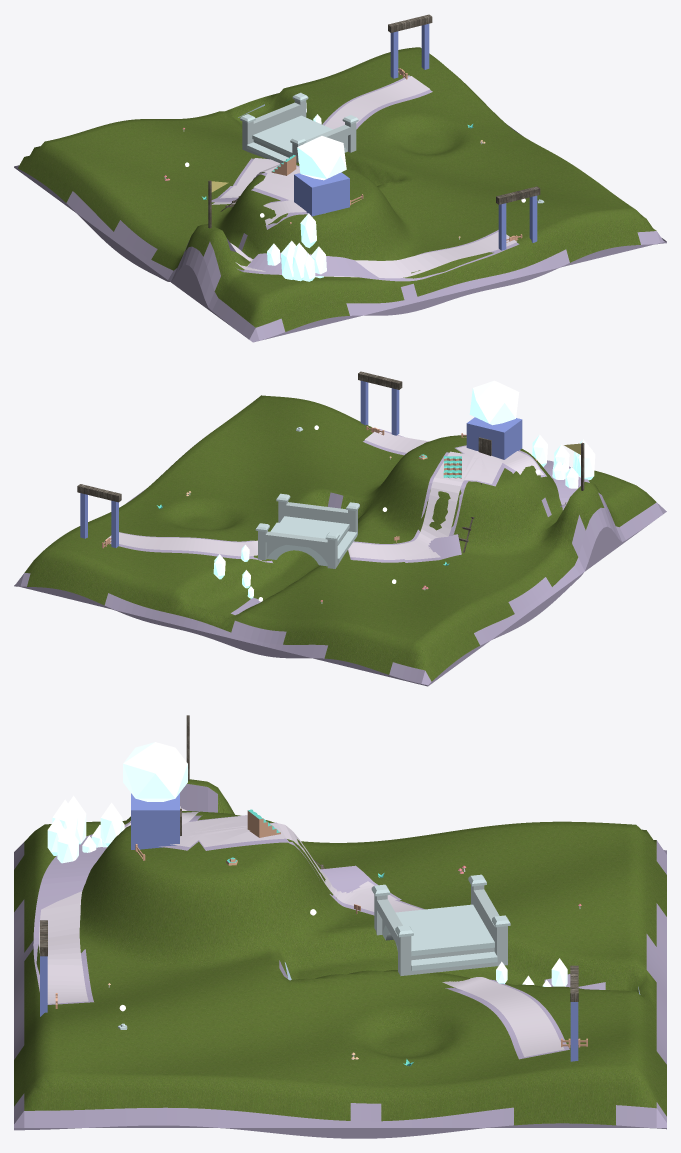
File: world9_star.glb
3 renders of one model, top to bottom at view 1: azimuth 30°, elevation 25°; view 2: azimuth 150°, elevation 25°; view 3: azimuth 270°, elevation 25°, orthographic. The views are drawn at different scales.
Visible parts, largest first — view 1: W9_Terrain, bridge_stoneRound, W9_Road_7, W9_HutBase, W9_RoadCase_7, W9_CrystalRoof, W9_Road_0, W9_Road_1, W9_RoadCase_0, W9_Road_3; view 2: W9_Terrain, bridge_stoneRound, W9_Road_1, W9_Road_0, W9_CrystalRoof, W9_HutBase, W9_RoadCase_1, W9_Road_7, W9_RoadCase_2, W9_Road_3, W9_RoadCase_7, W9_RoadCase_0 (+1 smaller); view 3: W9_Terrain, bridge_stoneRound, W9_Road_7, W9_Road_0, W9_CrystalRoof, W9_RoadCase_7, W9_HutBase, W9_Road_1, W9_RoadCase_0, W9_RoadCase_2, W9_Road_3, W9_CaveCry_C8 (+2 smaller).
Part boxes in pixels (<box>): W9_Terrain: <box>14,47,666,342</box>; bridge_stoneRound: <box>240,92,358,163</box>; W9_Road_7: <box>230,232,516,278</box>; W9_HutBase: <box>294,172,349,216</box>; W9_RoadCase_7: <box>237,230,519,281</box>; W9_CrystalRoof: <box>297,136,346,180</box>; W9_Road_0: <box>325,76,430,129</box>; W9_Road_1: <box>236,158,300,194</box>; W9_RoadCase_0: <box>322,75,432,129</box>; W9_Road_3: <box>253,173,293,200</box>; W9_Terrain: <box>14,395,666,686</box>; bridge_stoneRound: <box>255,493,359,568</box>; W9_Road_1: <box>348,451,478,559</box>; W9_Road_0: <box>106,532,257,556</box>; W9_CrystalRoof: <box>469,380,519,425</box>; W9_HutBase: <box>466,417,522,459</box>; W9_RoadCase_1: <box>348,452,468,562</box>; W9_Road_7: <box>365,430,567,504</box>; W9_RoadCase_2: <box>404,534,461,562</box>; W9_Road_3: <box>463,451,502,483</box>; W9_RoadCase_7: <box>363,429,589,509</box>; W9_RoadCase_0: <box>104,532,272,562</box>; W9_Terrain: <box>14,779,666,1138</box>; bridge_stoneRound: <box>371,874,510,975</box>; W9_Road_7: <box>39,808,186,1003</box>; W9_Road_0: <box>442,977,564,1056</box>; W9_CrystalRoof: <box>123,742,187,801</box>; W9_RoadCase_7: <box>33,821,130,1004</box>; W9_HutBase: <box>131,793,179,849</box>; W9_Road_1: <box>195,823,421,912</box>; W9_RoadCase_0: <box>445,979,569,1059</box>; W9_RoadCase_2: <box>321,865,401,900</box>; W9_Road_3: <box>180,815,247,837</box>; W9_CaveCry_C8: <box>100,802,122,846</box>.
Bounding box in the file's own units: 24 × 8.25 × 24.
Materials: 19 (2 with a texture image).
